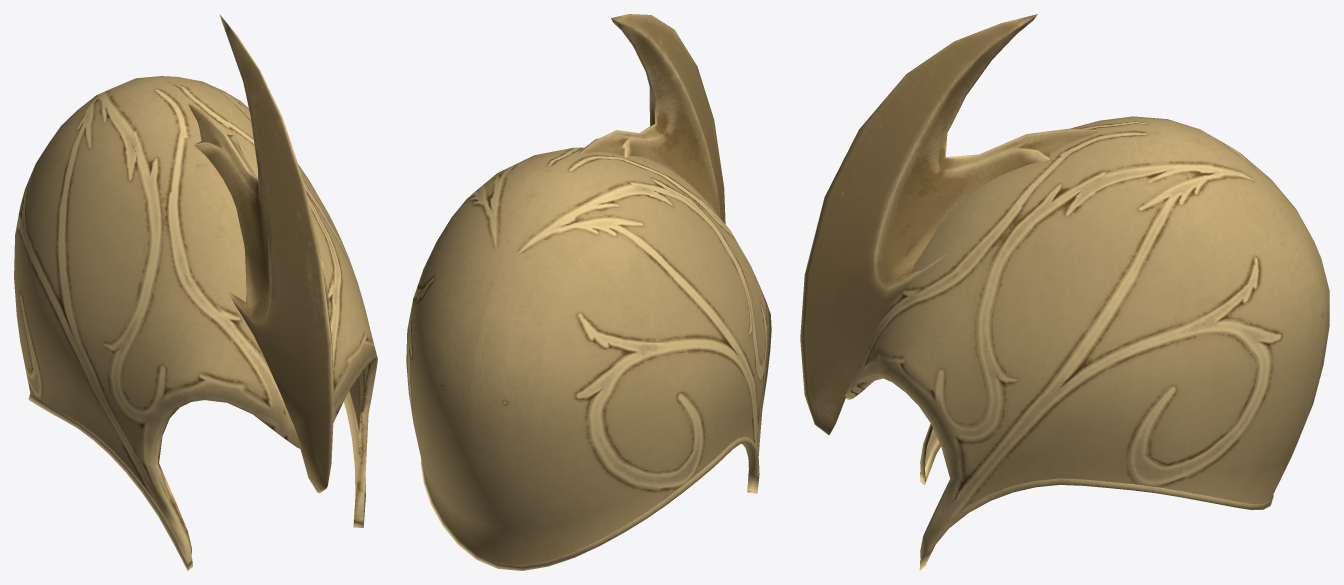
File: rivendell_helmet_archer_tier1.fbx
The picture shows the model from 3 angles, left to right: view 1: azimuth 30°, elevation 25°; view 2: azimuth 150°, elevation 25°; view 3: azimuth 270°, elevation 25°; orthographic projection. The views are drawn at different scales.
Parts seen in each view (by area): view 1: rivendell_helmet_archer_tier1.1, rivendell_helmet_archer_tier1.0; view 2: rivendell_helmet_archer_tier1.1, rivendell_helmet_archer_tier1.0; view 3: rivendell_helmet_archer_tier1.1, rivendell_helmet_archer_tier1.0.
Part boxes in pixels (left/top/right/bottom): rivendell_helmet_archer_tier1.1: left=14, top=76, right=377, bottom=570; rivendell_helmet_archer_tier1.0: left=188, top=14, right=334, bottom=493; rivendell_helmet_archer_tier1.1: left=406, top=147, right=771, bottom=570; rivendell_helmet_archer_tier1.0: left=579, top=14, right=725, bottom=223; rivendell_helmet_archer_tier1.1: left=845, top=116, right=1329, bottom=570; rivendell_helmet_archer_tier1.0: left=800, top=14, right=1102, bottom=435.
Size of the model in its own units: 0.1912 by 0.3005 by 0.321.
Materials: 2 (2 with a texture image).
